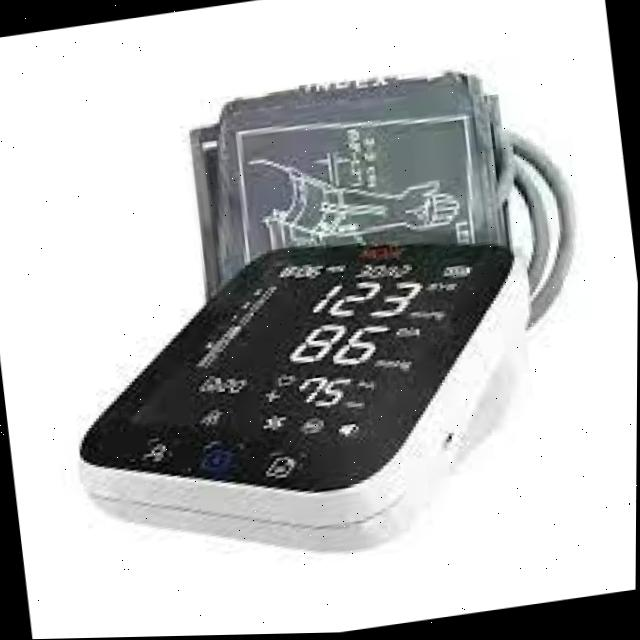dia: (282, 320, 395, 369)
pul: (286, 372, 355, 412)
ssd: (130, 144, 483, 535)
sys: (304, 281, 425, 320)
